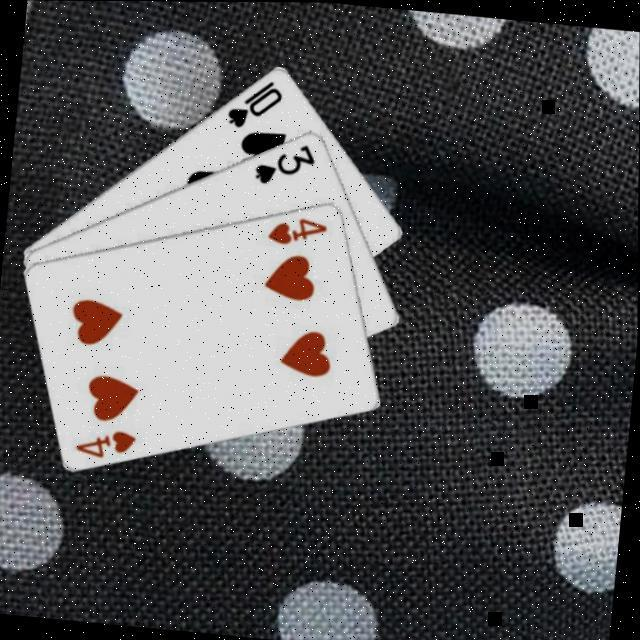10S: (222, 72, 286, 133)
3S: (250, 134, 318, 189)
4H: (71, 420, 140, 462), (263, 208, 330, 248)
